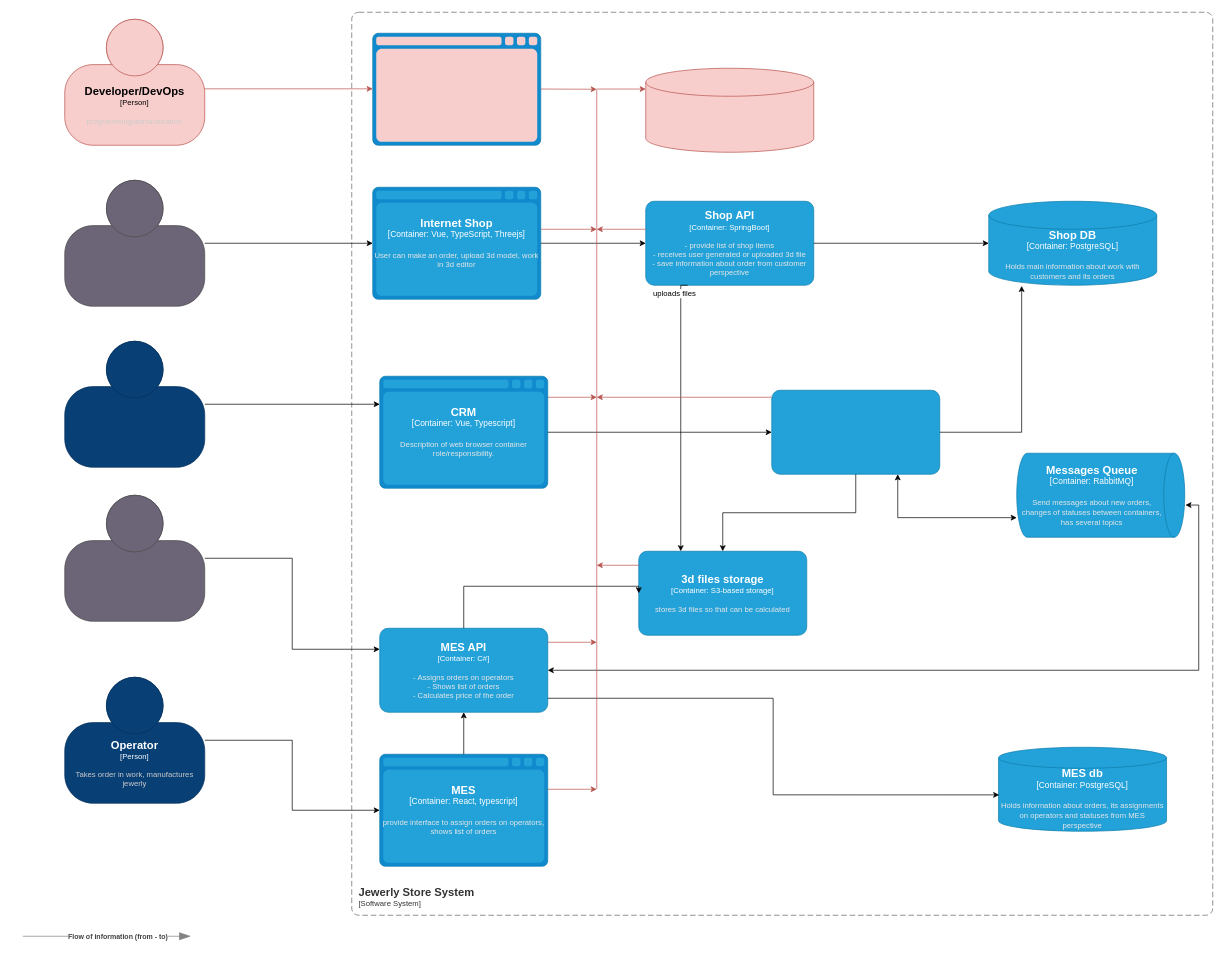
This 1225x960 diagram has some shape labels left out. Here are the shapes that lost their labels. From the top down, the box of each, then its label:
(372, 33, 541, 145): Jaeger UI [Container: Jaeger] Tracing UI
(645, 68, 814, 152): Jaeger [Container: Jaeger] Tracing
(64, 180, 205, 306): Customer [Person] Description of external person.
(64, 341, 205, 467): Seller [Person] Operates with order, confirms manufacturing for the user
(771, 390, 940, 474): CRM API [Container: SpringBoot] Description of container role/responsibility.
(64, 495, 205, 621): API user [Person] Description of external person.
